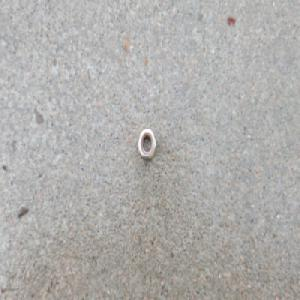Nut: (137, 126, 157, 161)
